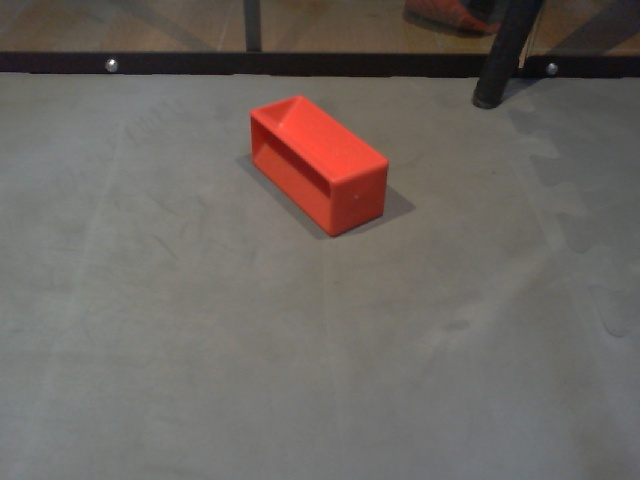RedSample: (248, 94, 391, 242)
